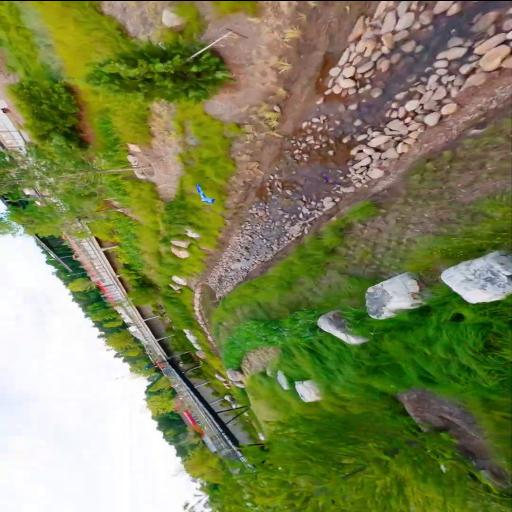uav: (188, 182, 220, 210)
